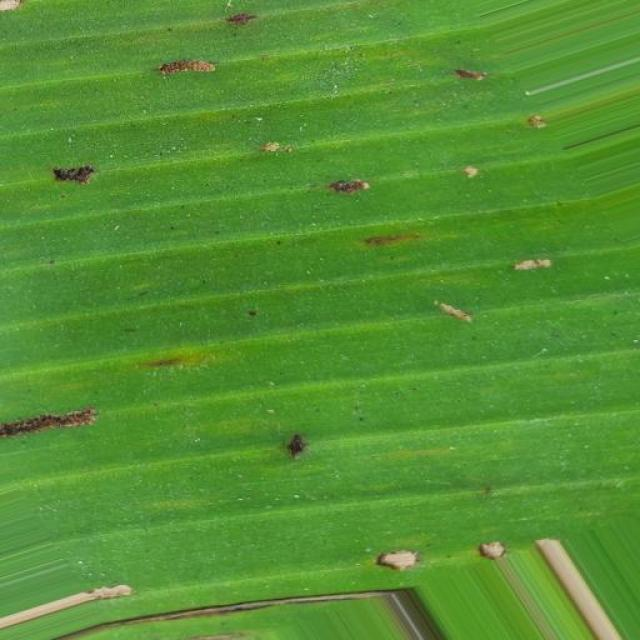Black_rot: (4, 20, 640, 564)
